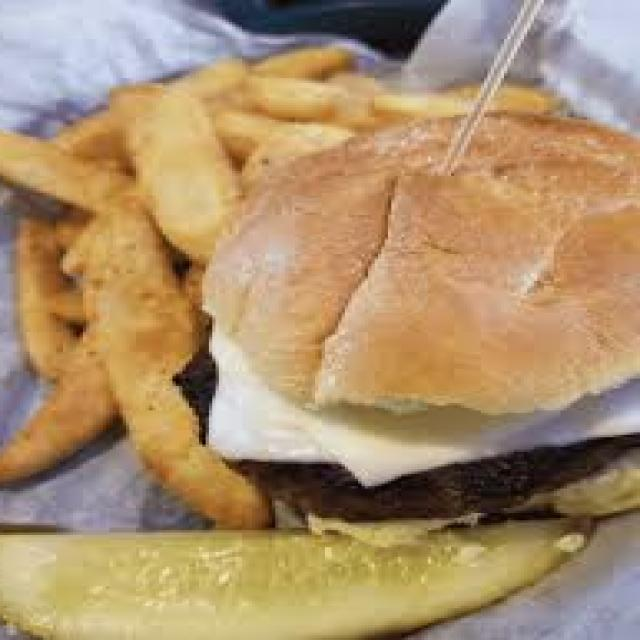Burger: (212, 93, 637, 523)
French Fries: (3, 36, 441, 528)
